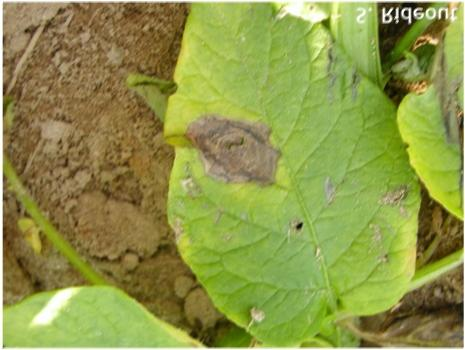Tomato Early blight leaf: (153, 6, 409, 345)
